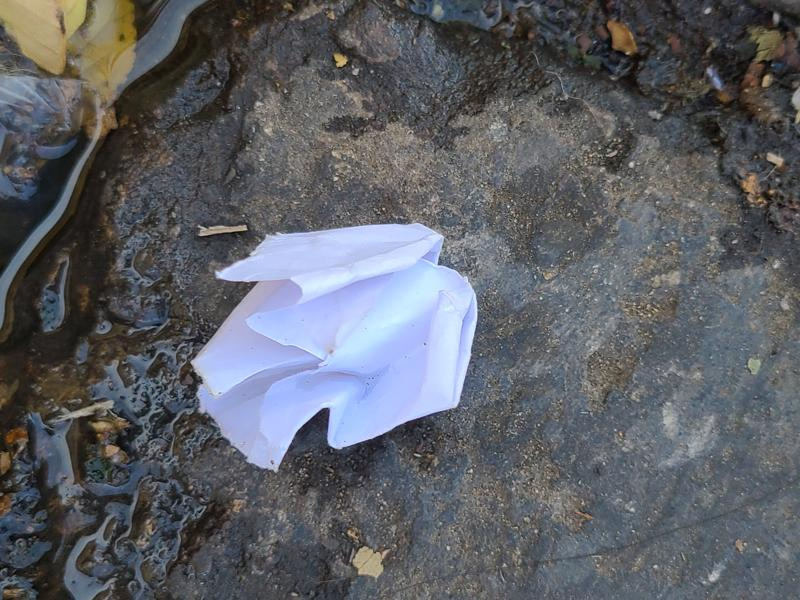papel: (191, 224, 478, 472)
